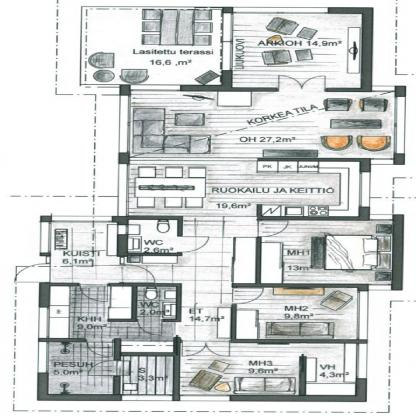door: (11, 261, 63, 288), (119, 265, 168, 290), (85, 361, 135, 381), (183, 340, 232, 359), (253, 216, 292, 238), (175, 236, 216, 255), (87, 341, 125, 360), (276, 76, 324, 90), (233, 286, 266, 304), (82, 285, 111, 303)
window: (124, 392, 230, 403), (235, 4, 326, 14), (394, 97, 407, 156), (351, 343, 369, 383), (223, 11, 234, 70), (131, 82, 179, 92), (359, 290, 368, 342), (359, 172, 372, 207), (48, 216, 113, 222), (39, 308, 45, 371), (39, 221, 51, 252), (367, 283, 389, 294), (370, 158, 393, 164)
zone: (127, 90, 390, 158), (52, 217, 259, 283), (128, 157, 363, 213), (82, 6, 218, 84), (234, 11, 362, 88), (256, 220, 392, 282), (48, 284, 179, 341), (178, 342, 296, 399), (234, 287, 359, 337), (292, 345, 357, 396), (50, 343, 115, 393), (183, 284, 230, 342), (121, 356, 172, 398)
